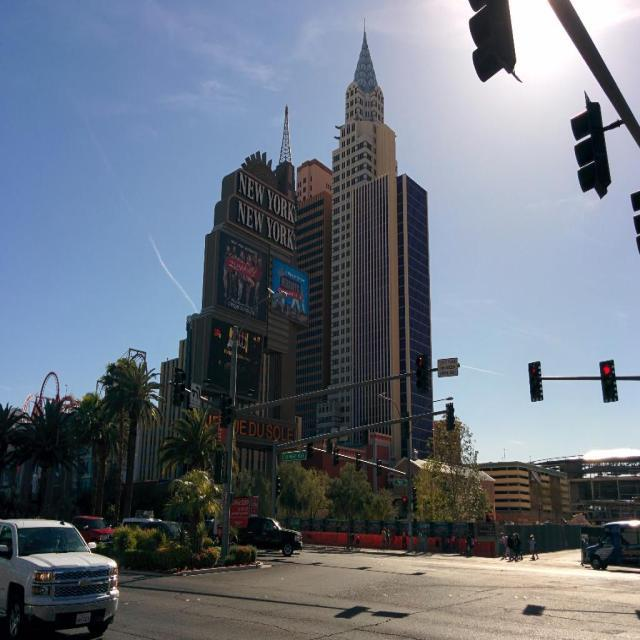off traffic light: (570, 96, 611, 201), (413, 352, 427, 391), (173, 369, 185, 406), (220, 395, 233, 428)
traffic light: (600, 360, 621, 401), (527, 362, 544, 401)
